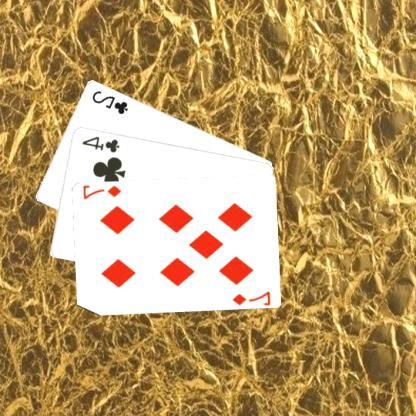2C: (91, 88, 131, 116)
4C: (81, 133, 122, 154)
7D: (82, 183, 124, 200), (231, 288, 273, 305)
